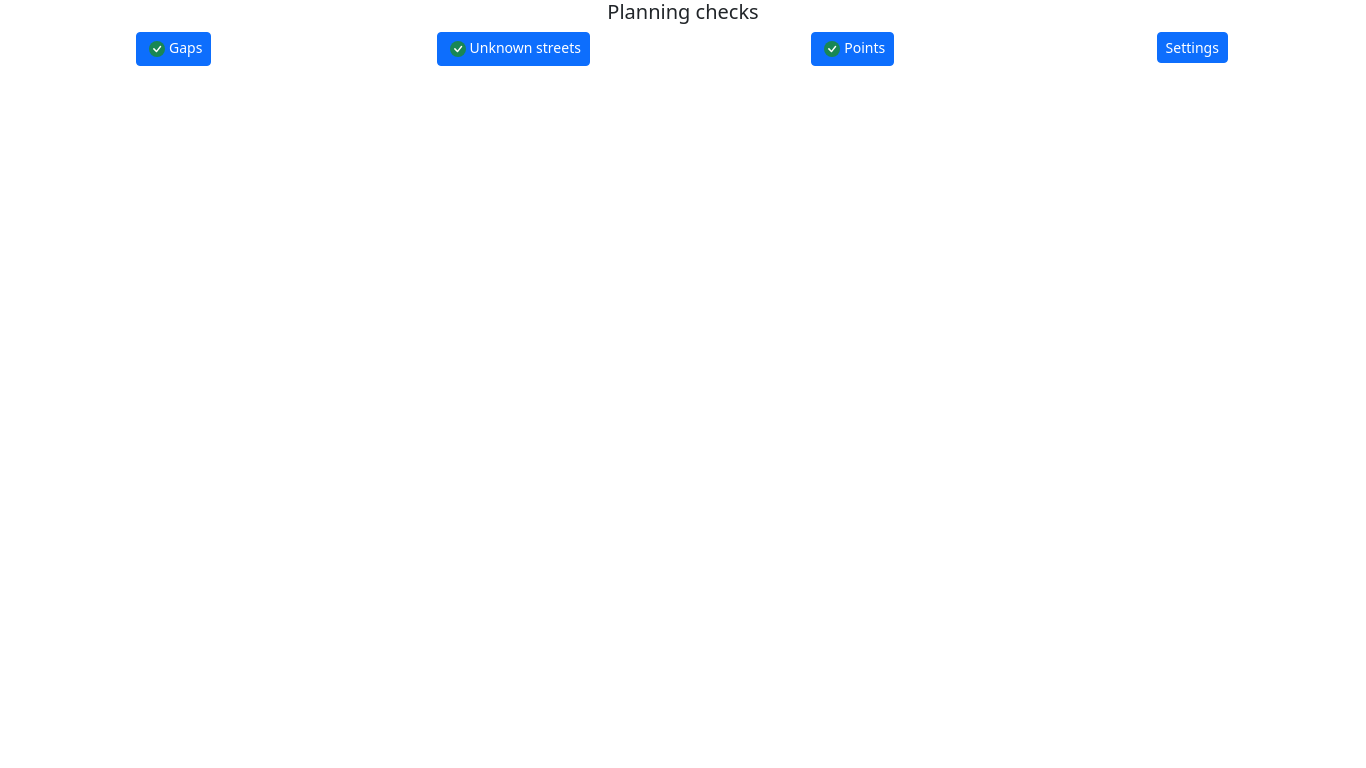
Scenario: SimplePlanningChecks › opens the gap overview and tolerance setting
Click the button "Gaps".
click(174, 49)  # box [136,32,212,66]
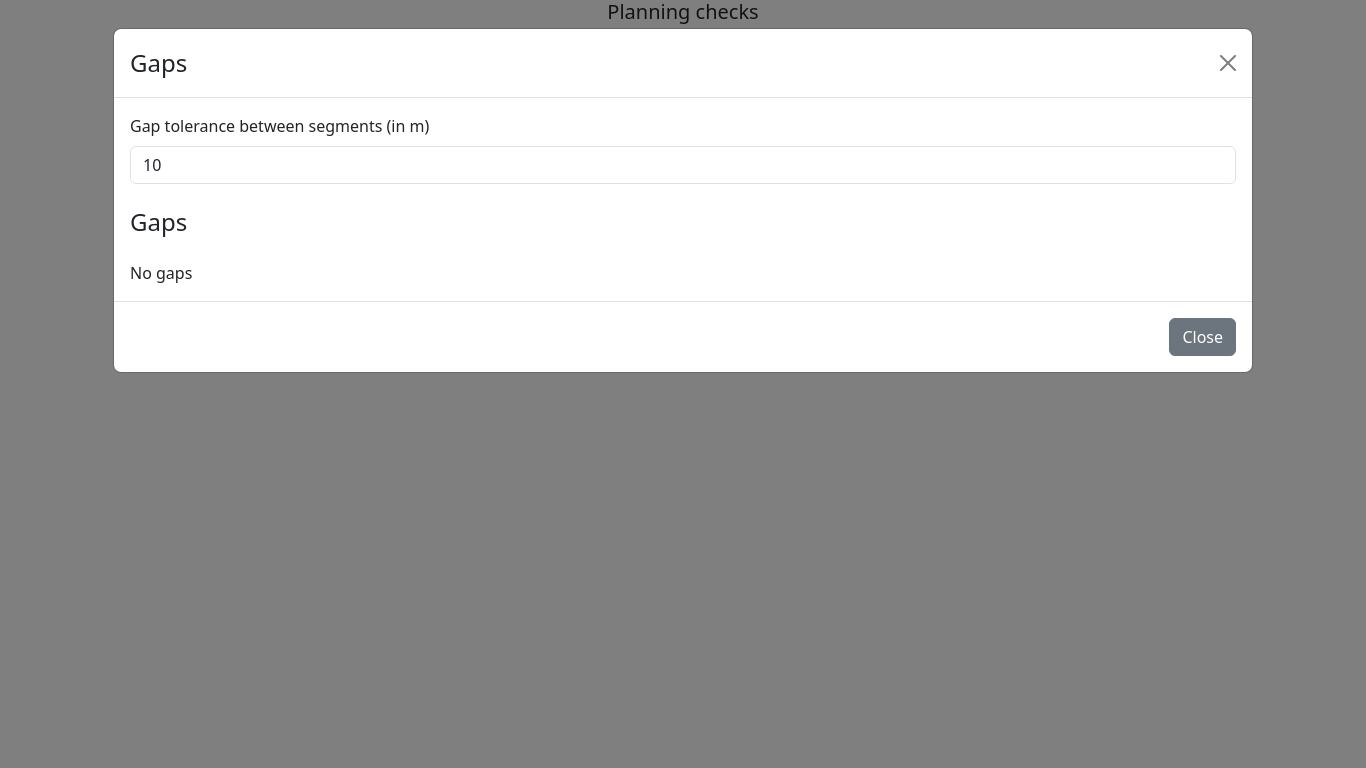
Check: the dialog is shown, box [113,28,1253,373]
Check: the text "No gaps" is shown, box [130,262,192,284]
Check: the number field titled "Gap tolerance between segments (in m)" is shown, box [130,146,1236,184]
